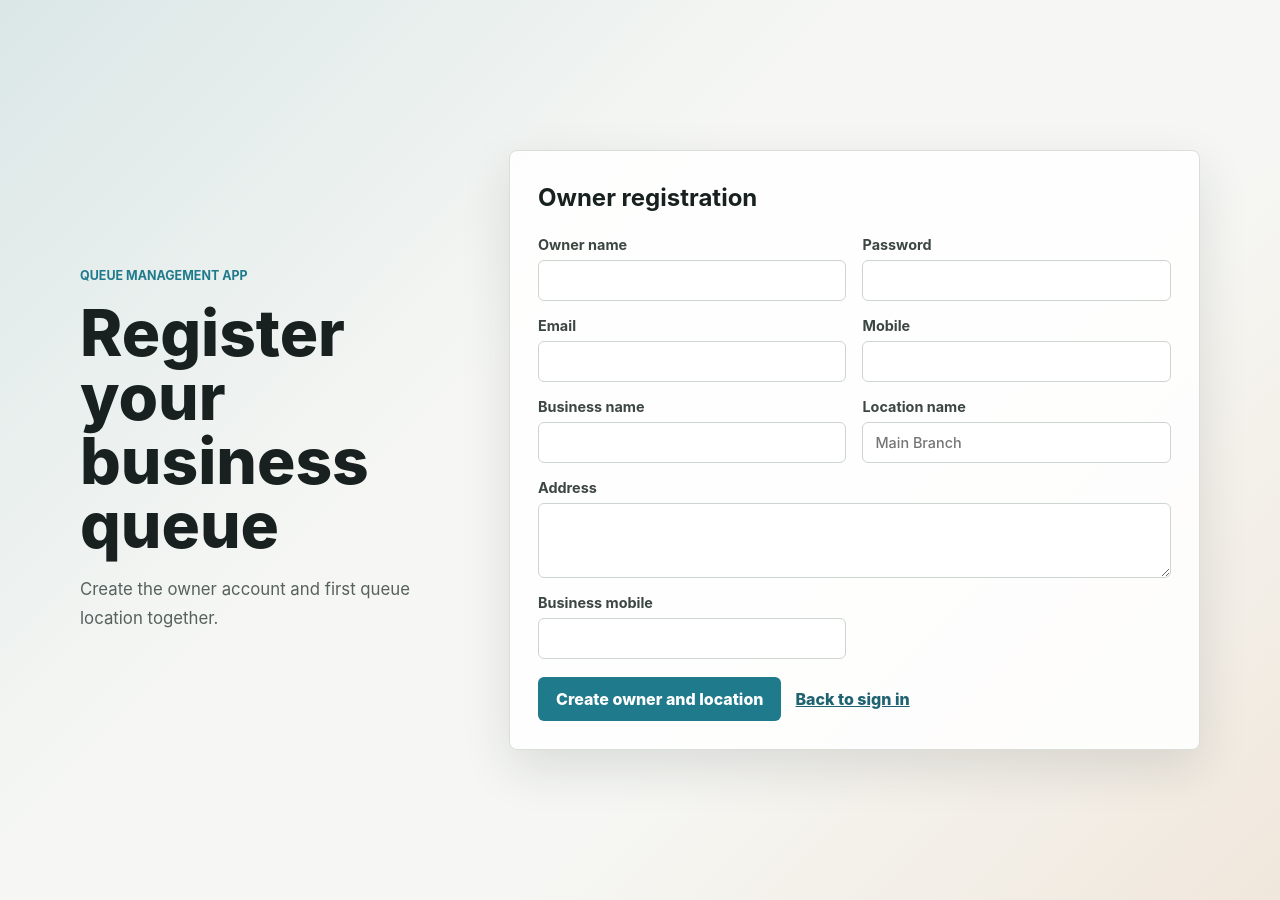
Test: OwnerRegistrationComponent › should show validation feedback when the registration API rejects the request
The width and height of the screenshot is (1280, 900).
Step 1. Type "Priya Sharma" into the field labelled "Owner name" → (692, 280), box [538,260,846,301]
Step 2. Type "priya@example.com" into the field labelled "Email" → (692, 362), box [538,341,846,382]
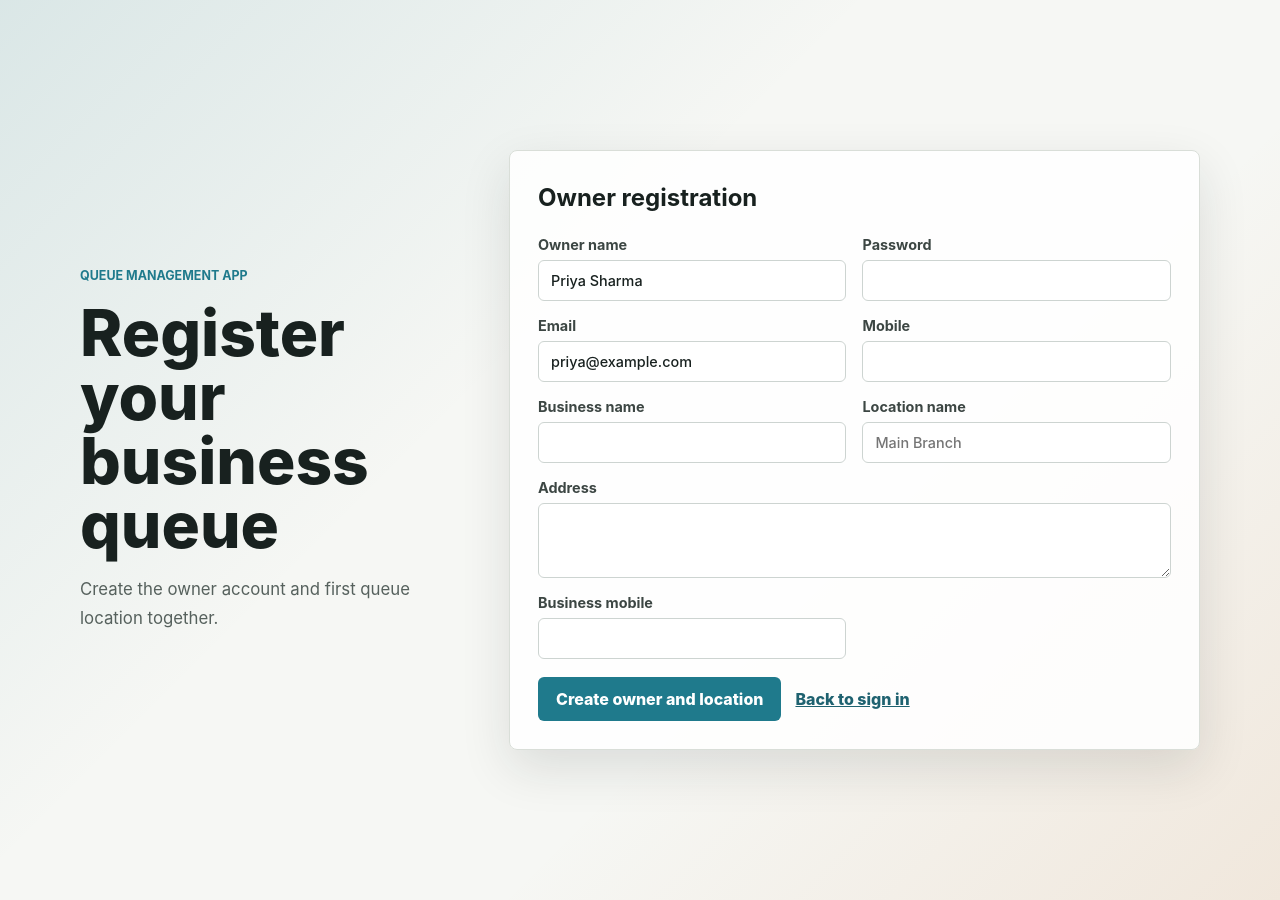
Step 3. Type "StrongPass123" into the password field labelled "Password" → (1017, 280), box [862,260,1171,301]
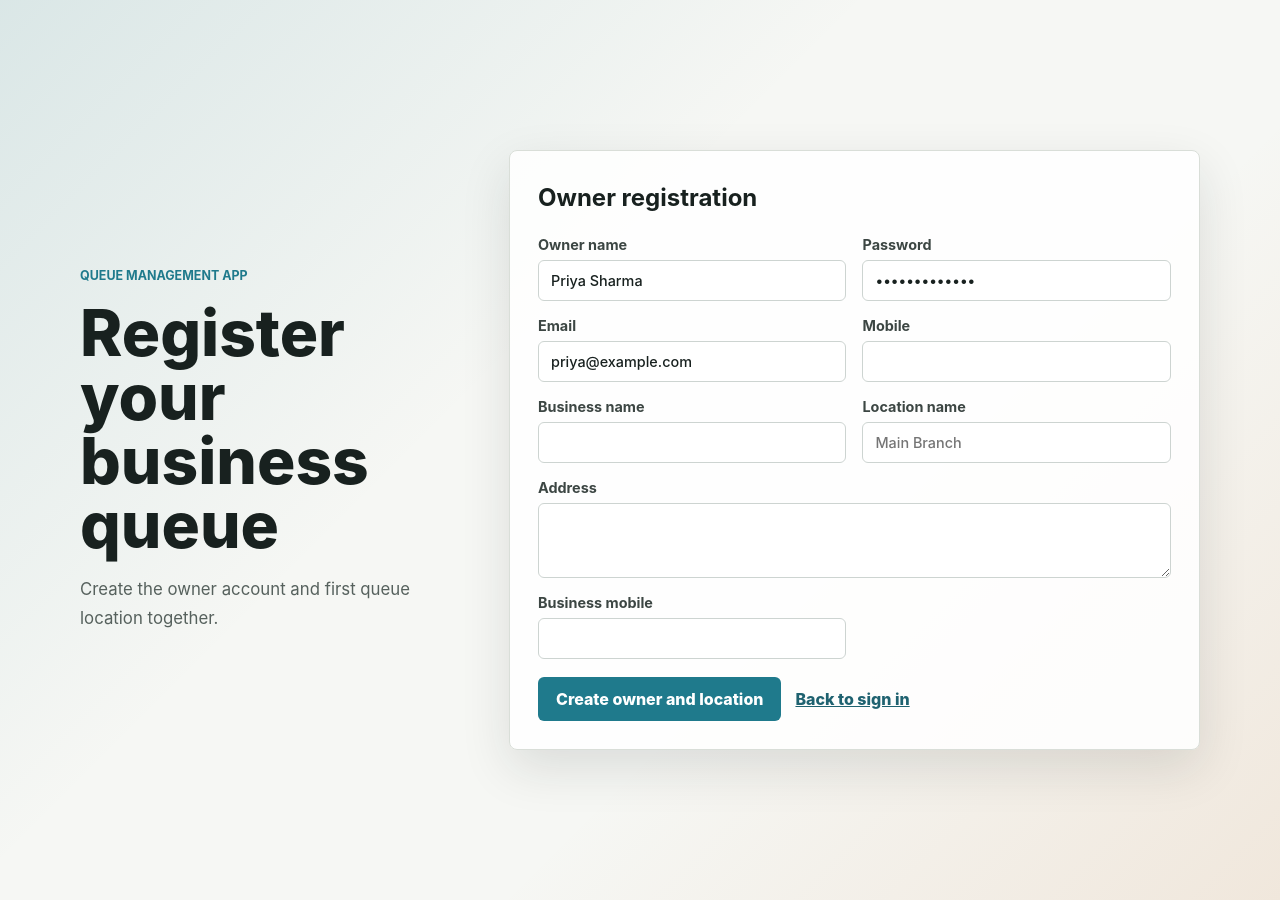
Step 4. Type "Priya Dental Clinic" into the field labelled "Business name" → (692, 442), box [538,422,846,463]
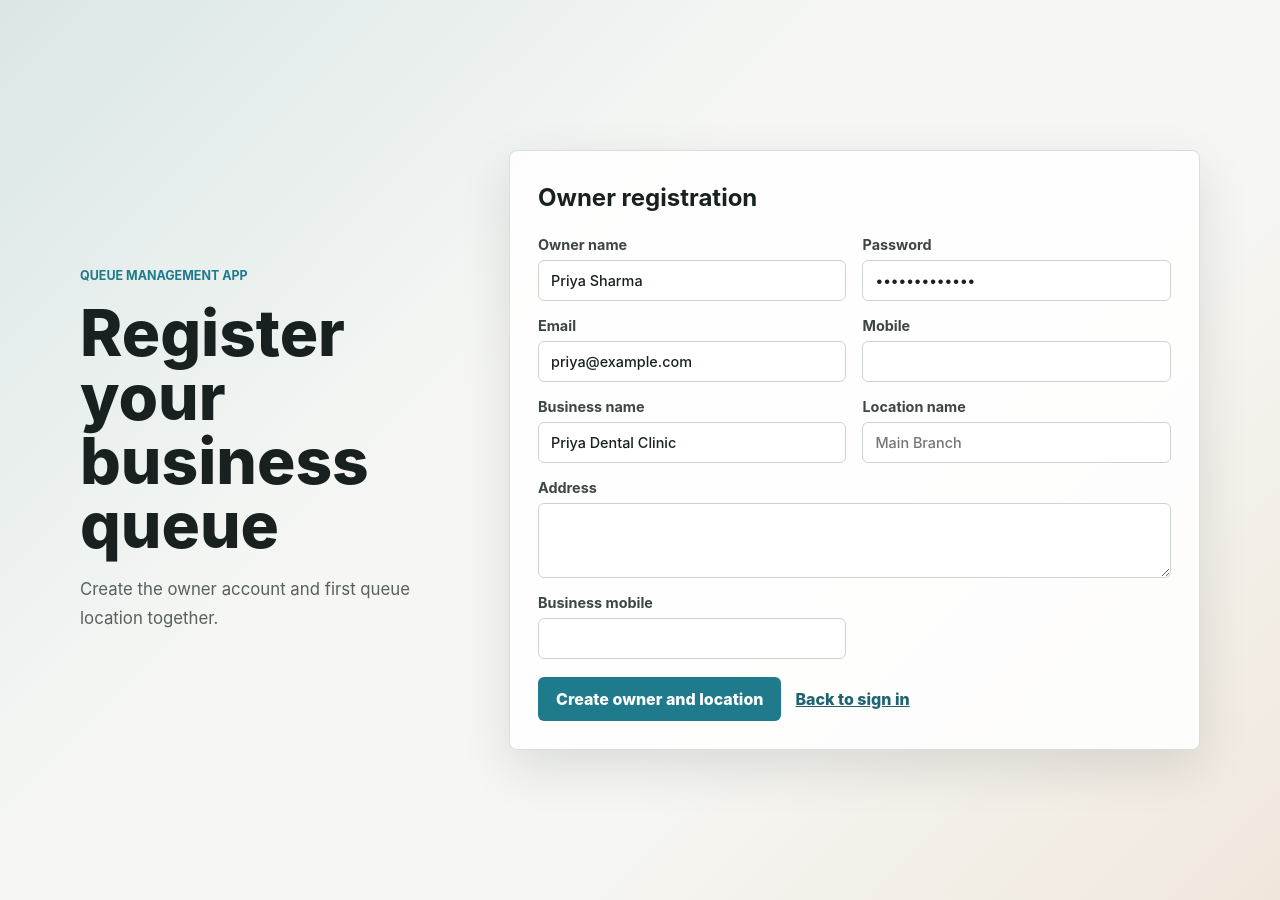
Step 5. Type "12 MG Road, Bengaluru" into the text box labelled "Address" → (854, 540), box [538,503,1171,578]
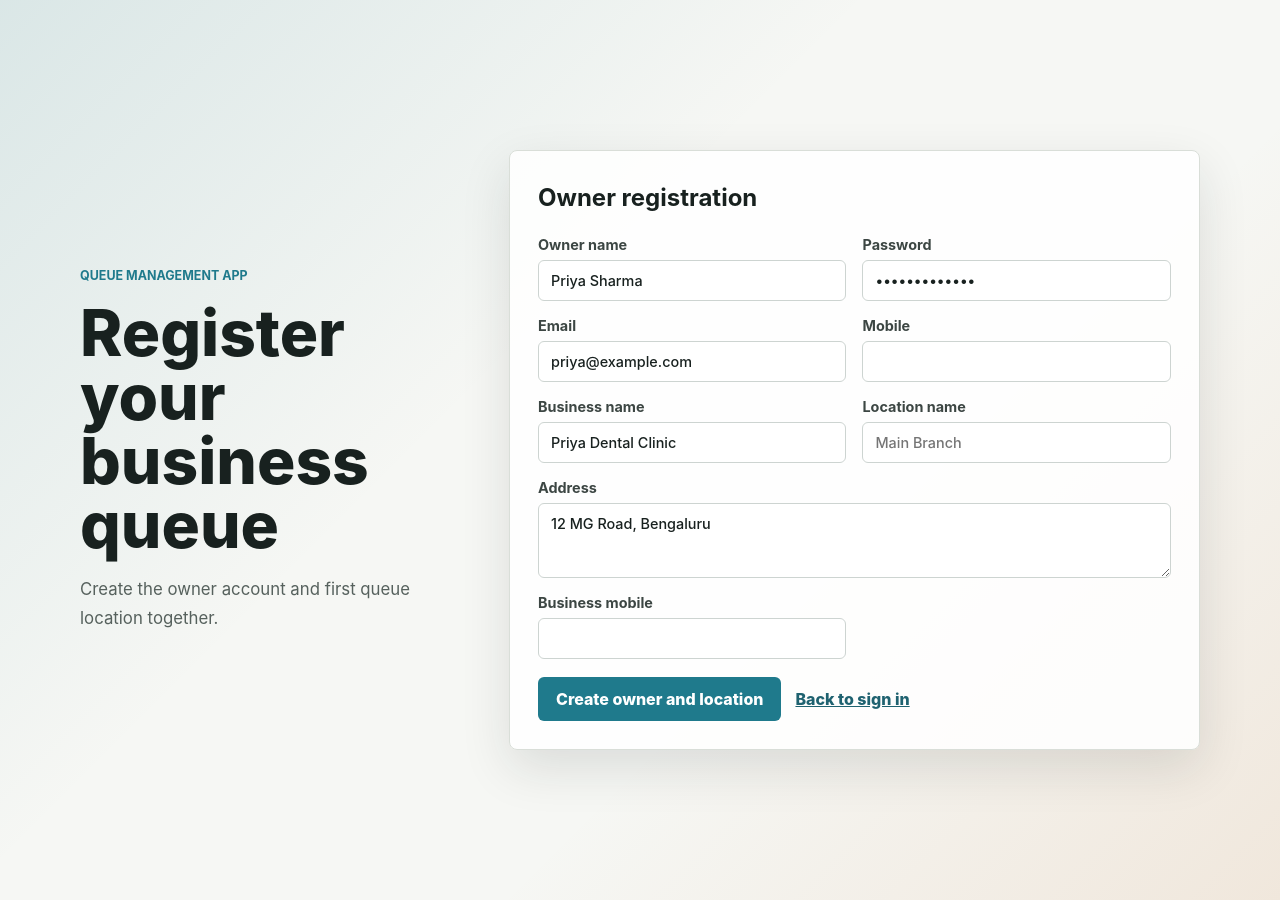
Step 6. Type "9876500000" into the field labelled "Business mobile" → (692, 638), box [538,618,846,659]
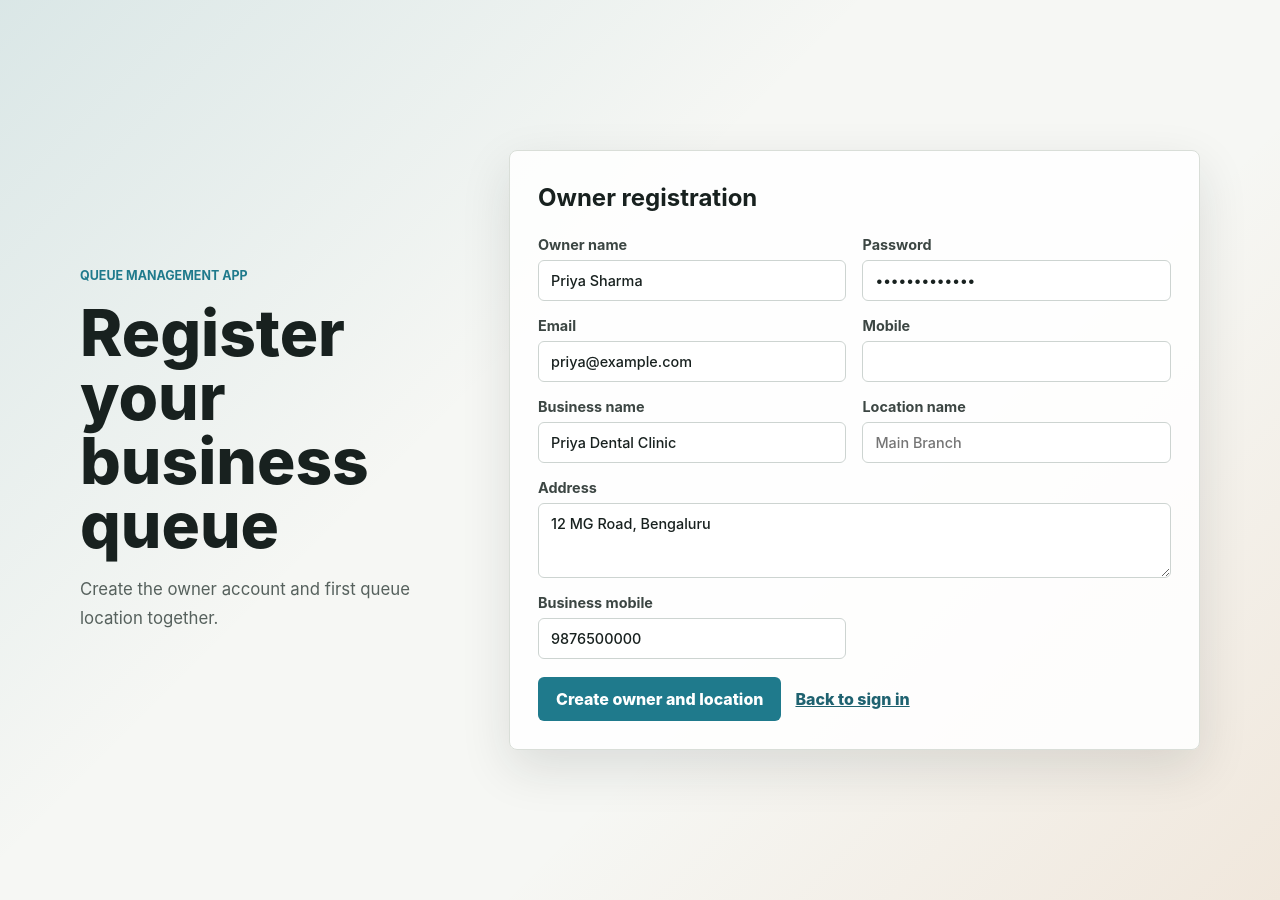
Step 7. Submit the form with class "registration-form", box [538,236,1171,721]
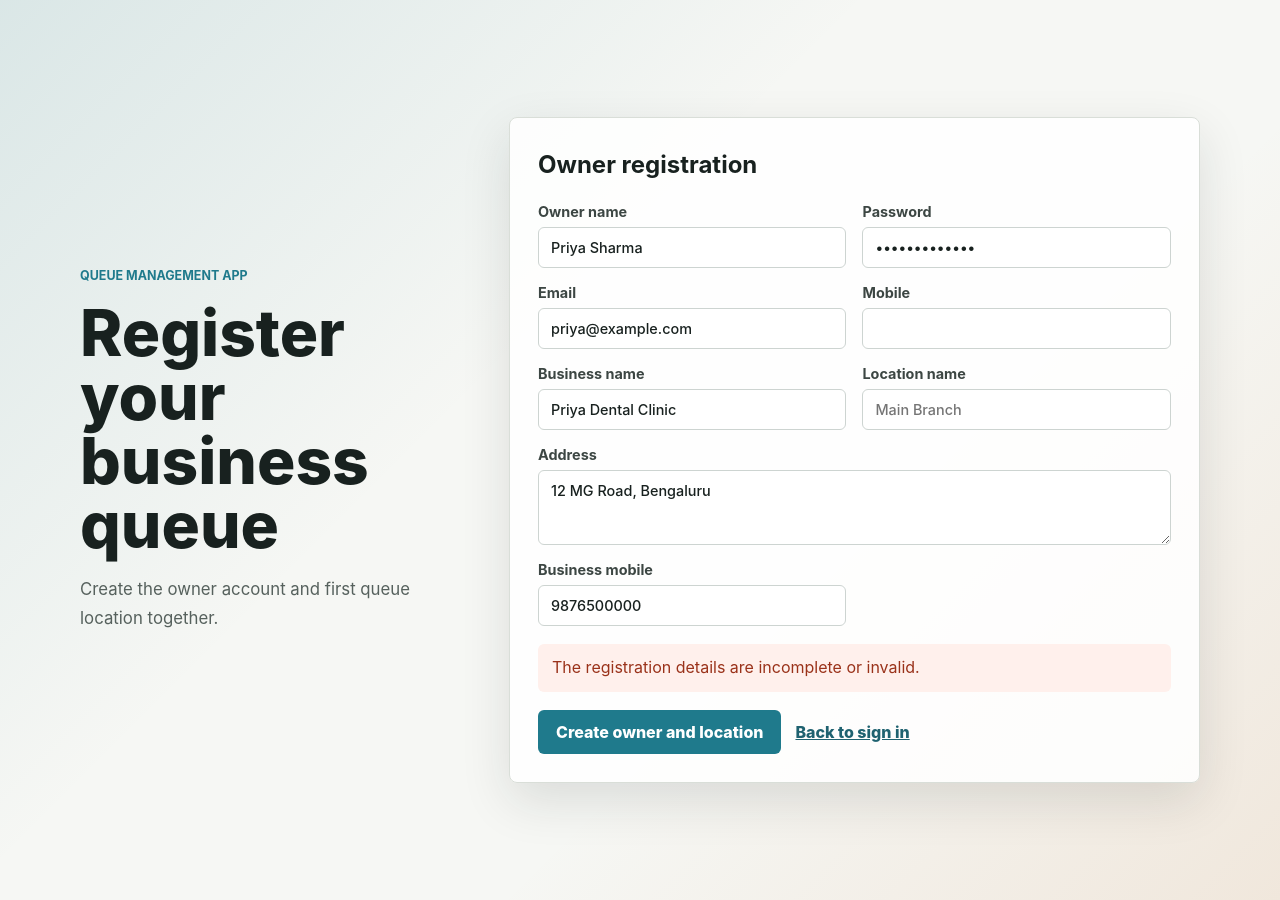
Expected: the message "The registration details are incomplete or invalid." is shown, [538,644,1171,692]
